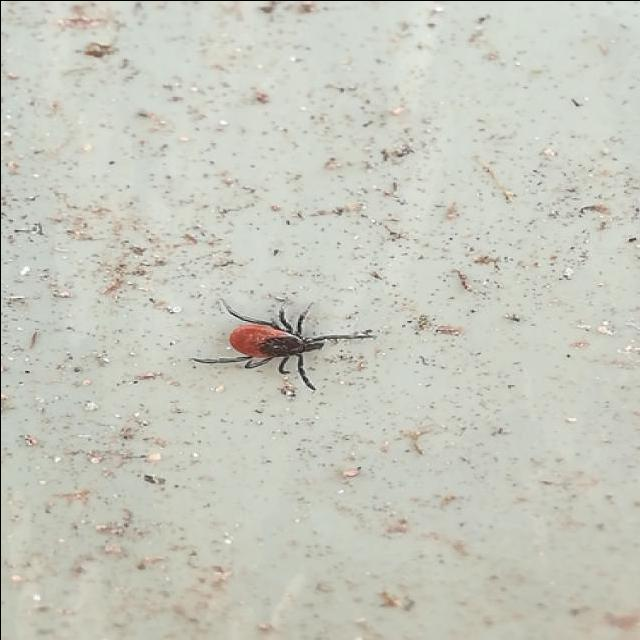Ixodes Ricinus-F: (193, 302, 372, 389)
